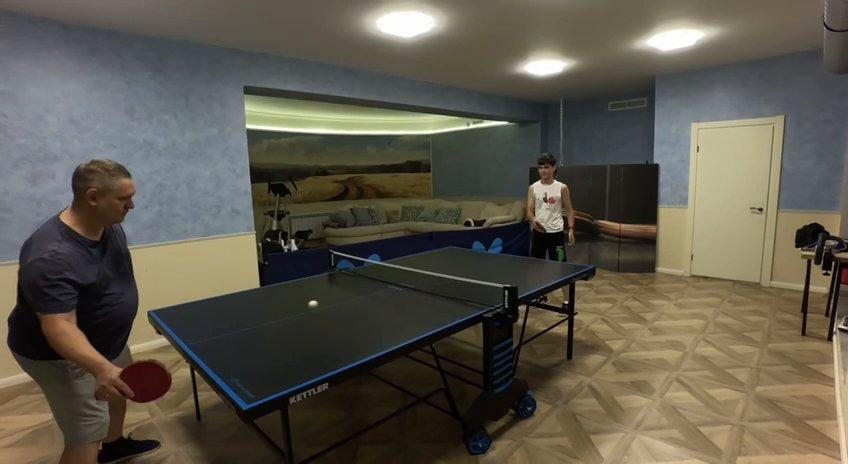Ball: (305, 299, 321, 311)
Net: (330, 251, 517, 317)
Player1: (526, 153, 575, 258)
Player2: (8, 160, 157, 450)
Table: (148, 247, 595, 410)
